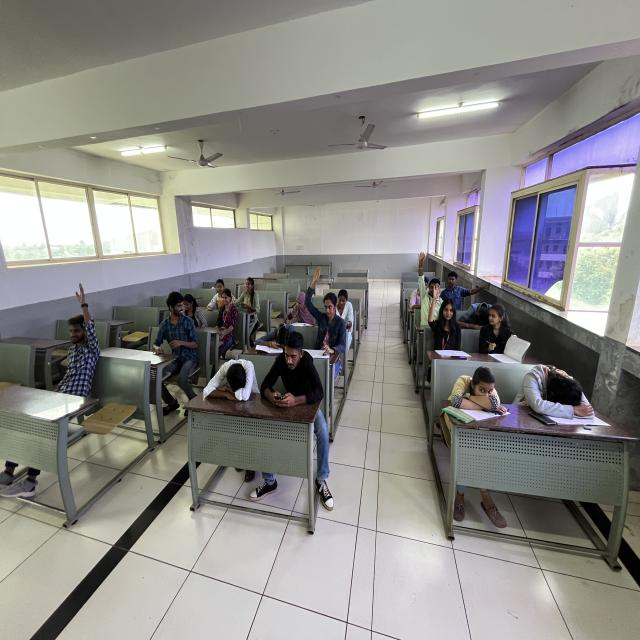Hand Rising: (61, 272, 103, 397), (414, 284, 469, 354), (410, 235, 448, 325), (305, 263, 342, 336), (461, 291, 501, 323)
Sleeping: (521, 354, 596, 415), (198, 347, 265, 402), (252, 318, 296, 354)
Using Phone: (264, 330, 340, 414), (239, 263, 264, 319)
Writing: (278, 283, 316, 327)
